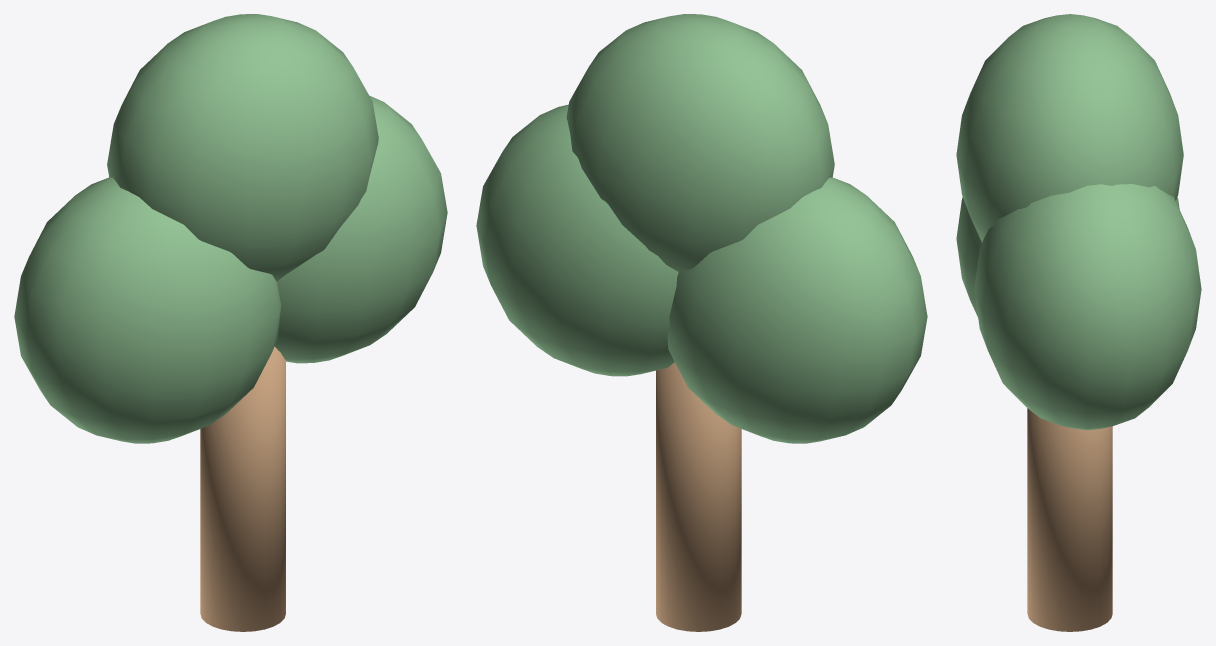
The model's file is word-tree.glb.
3 renders of one model, left to right at view 1: azimuth 30°, elevation 25°; view 2: azimuth 150°, elevation 25°; view 3: azimuth 270°, elevation 25°, orthographic.
Parts seen in each view (by area): view 1: leaf canopy.002, leaf canopy, leaf canopy.001, tree trunk; view 2: leaf canopy, leaf canopy.002, leaf canopy.001, tree trunk; view 3: leaf canopy.001, leaf canopy.002, tree trunk, leaf canopy.
Part boxes in pixels (<box>): leaf canopy.002: <box>107,14,378,281</box>; leaf canopy: <box>14,177,281,443</box>; leaf canopy.001: <box>274,95,447,363</box>; tree trunk: <box>200,346,285,631</box>; leaf canopy: <box>667,177,927,443</box>; leaf canopy.002: <box>566,14,834,271</box>; leaf canopy.001: <box>476,104,678,376</box>; tree trunk: <box>656,362,741,631</box>; leaf canopy.001: <box>974,184,1201,430</box>; leaf canopy.002: <box>956,14,1183,242</box>; tree trunk: <box>1027,408,1112,631</box>; leaf canopy: <box>956,197,1179,316</box>.
Size of the model in its own units: 1.35 by 1.82 by 0.69.
